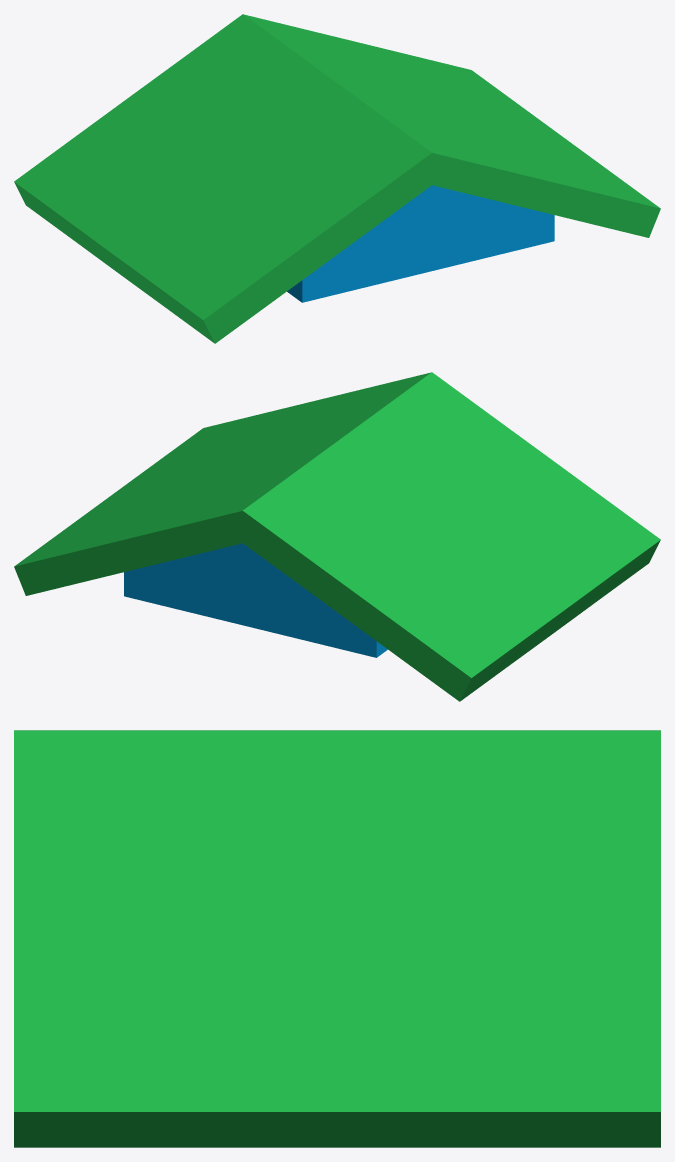
Rendered from roof.fbx.
3 renders of one model, top to bottom at view 1: azimuth 30°, elevation 25°; view 2: azimuth 150°, elevation 25°; view 3: azimuth 270°, elevation 25°, orthographic. The views are drawn at different scales.
Parts seen in each view (by area): view 1: node_id7 (×3); view 2: node_id7 (×3); view 3: node_id7.
Boxes of the visible parts, x1=… form: node_id7 (×3): x1=14, y1=14, x2=660, y2=343; node_id7 (×3): x1=14, y1=372, x2=660, y2=701; node_id7: x1=14, y1=730, x2=660, y2=1147.
Bounding box in the file's own units: 0.512 × 0.1479 × 0.3668.
